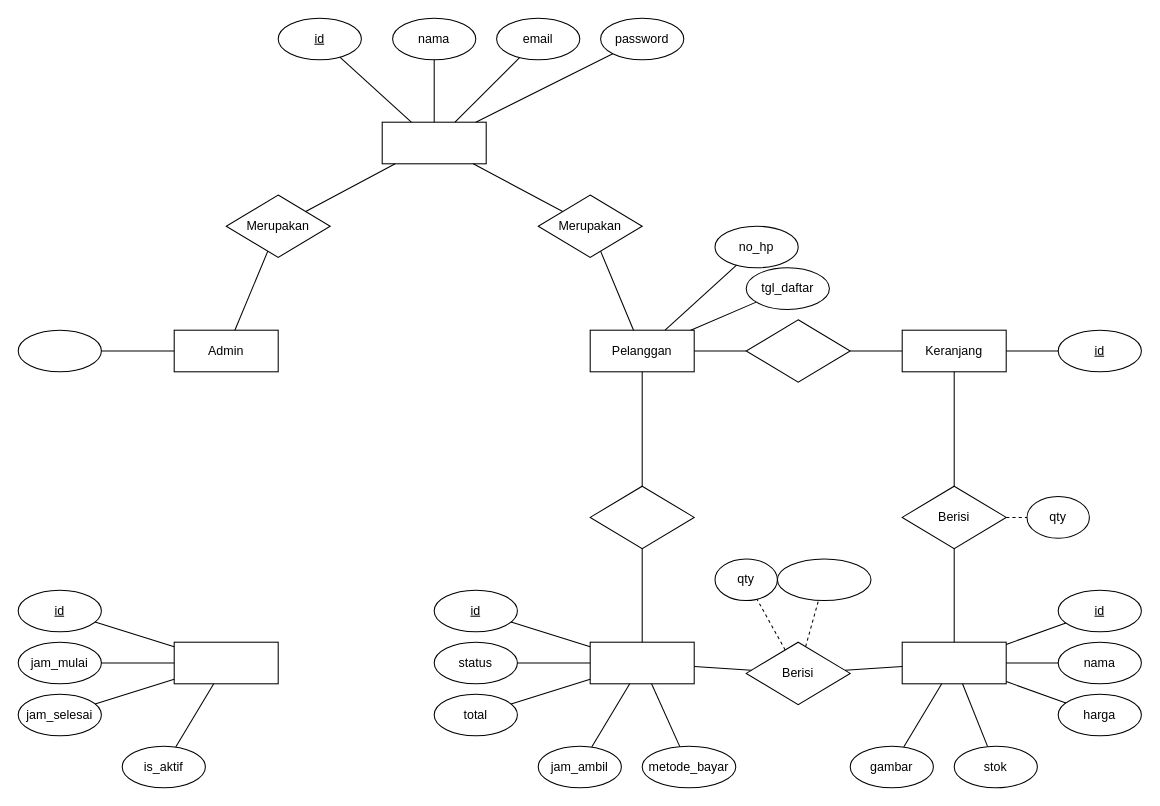
This 1160x806 diagram has some shape labels left out. The centre of each missing label's shape, as x and y in pixels:
"harga_satuan" belongs at (x=823, y=579).
"Jadwal Ambil" belongs at (x=225, y=662).
"level" belongs at (x=59, y=350).
"Membuat" belongs at (x=641, y=517).
"Memiliki" belongs at (x=797, y=350).
"Order" belongs at (x=641, y=662).
"Produk" belongs at (x=953, y=662).
"User" belongs at (x=433, y=142).
